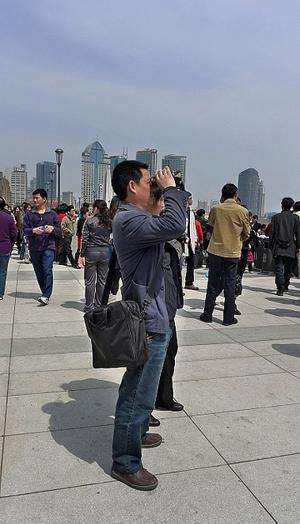person: (112, 160, 187, 491)
